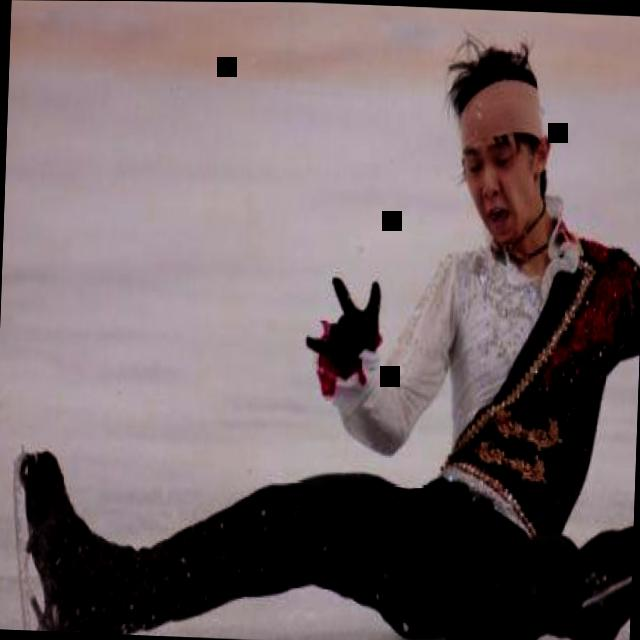Fall-Detected: (2, 34, 640, 640)
